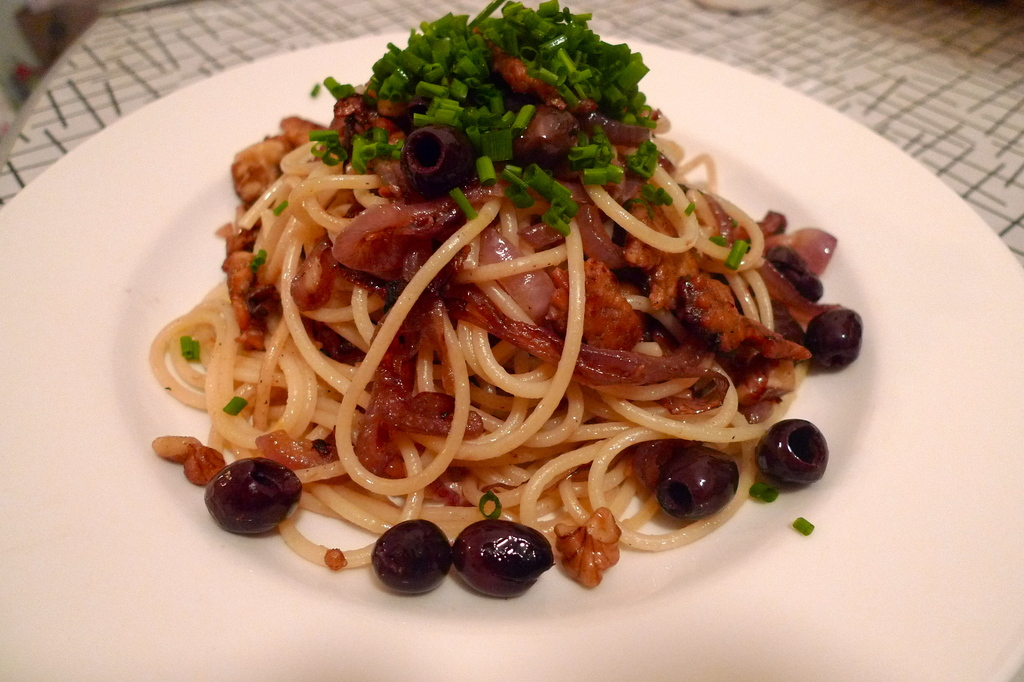pasta: (132, 21, 854, 603)
